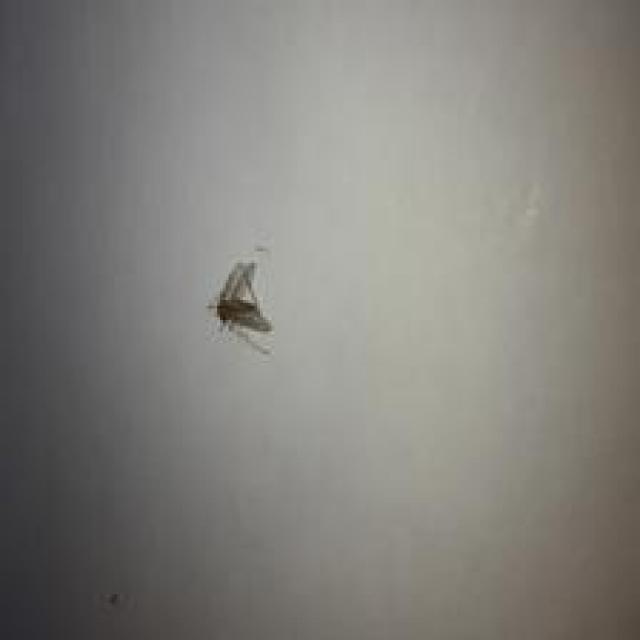Culex: (206, 252, 274, 357)
